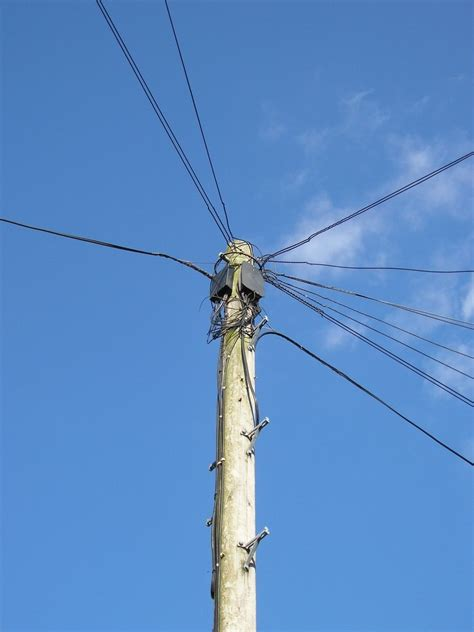pole: (144, 195, 350, 632)
